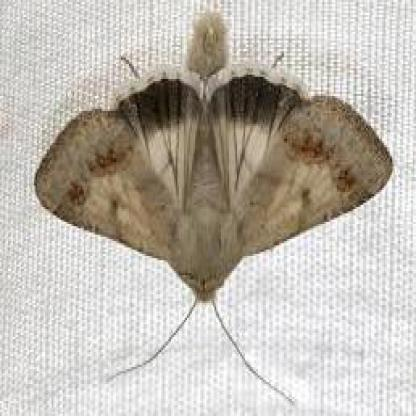helicoverpa: (35, 15, 393, 307)
